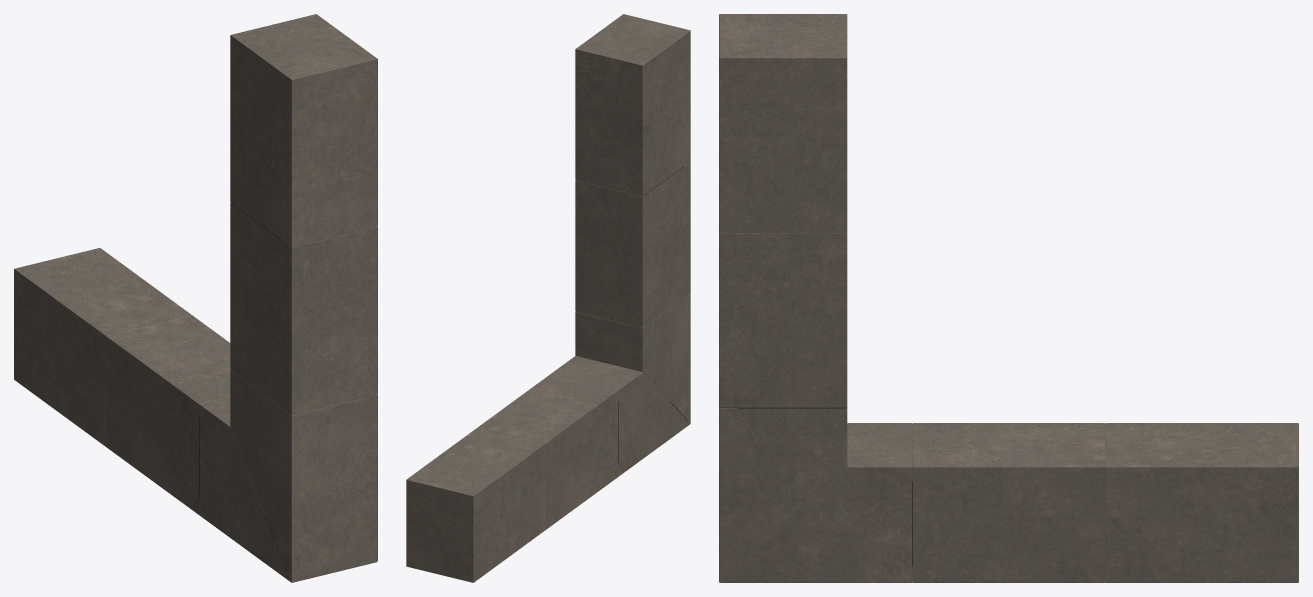
File: cP_Bench23.dae
The picture shows the model from 3 angles, left to right: view 1: azimuth 30°, elevation 25°; view 2: azimuth 150°, elevation 25°; view 3: azimuth 270°, elevation 25°; orthographic projection. The views are drawn at different scales.
Visible parts, largest first — view 1: cP_Bench23.001; view 2: cP_Bench23.001; view 3: cP_Bench23.001.
Boxes of the visible parts, bbox=[...] form: cP_Bench23.001: bbox=[14, 14, 377, 582]; cP_Bench23.001: bbox=[406, 14, 690, 582]; cP_Bench23.001: bbox=[719, 14, 1298, 582].
Bounding box in the file's own units: 0.4495 × 2.5 × 2.5.
